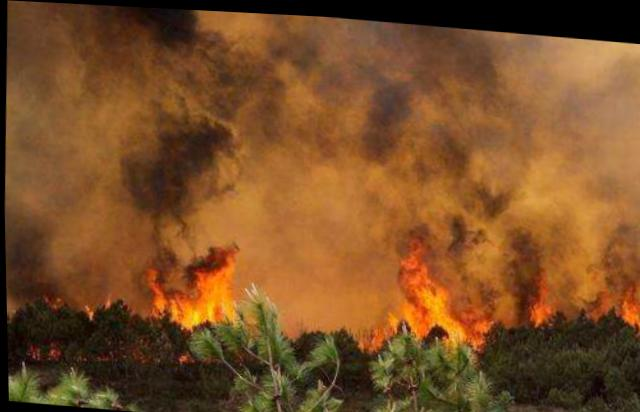fire: (359, 225, 639, 366), (22, 236, 248, 361)
